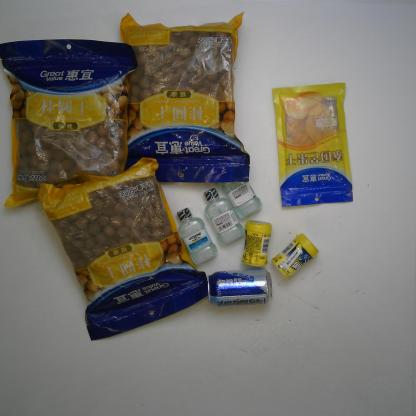Alcohol: (207, 268, 273, 308)
Dried Food: (37, 157, 208, 341), (0, 39, 138, 208), (120, 11, 250, 183)
Dried Fruit: (272, 82, 353, 207)
Gum: (271, 233, 319, 279), (241, 220, 272, 267)
Personal Hygiene: (203, 188, 245, 245), (177, 207, 218, 265), (221, 182, 262, 219)
